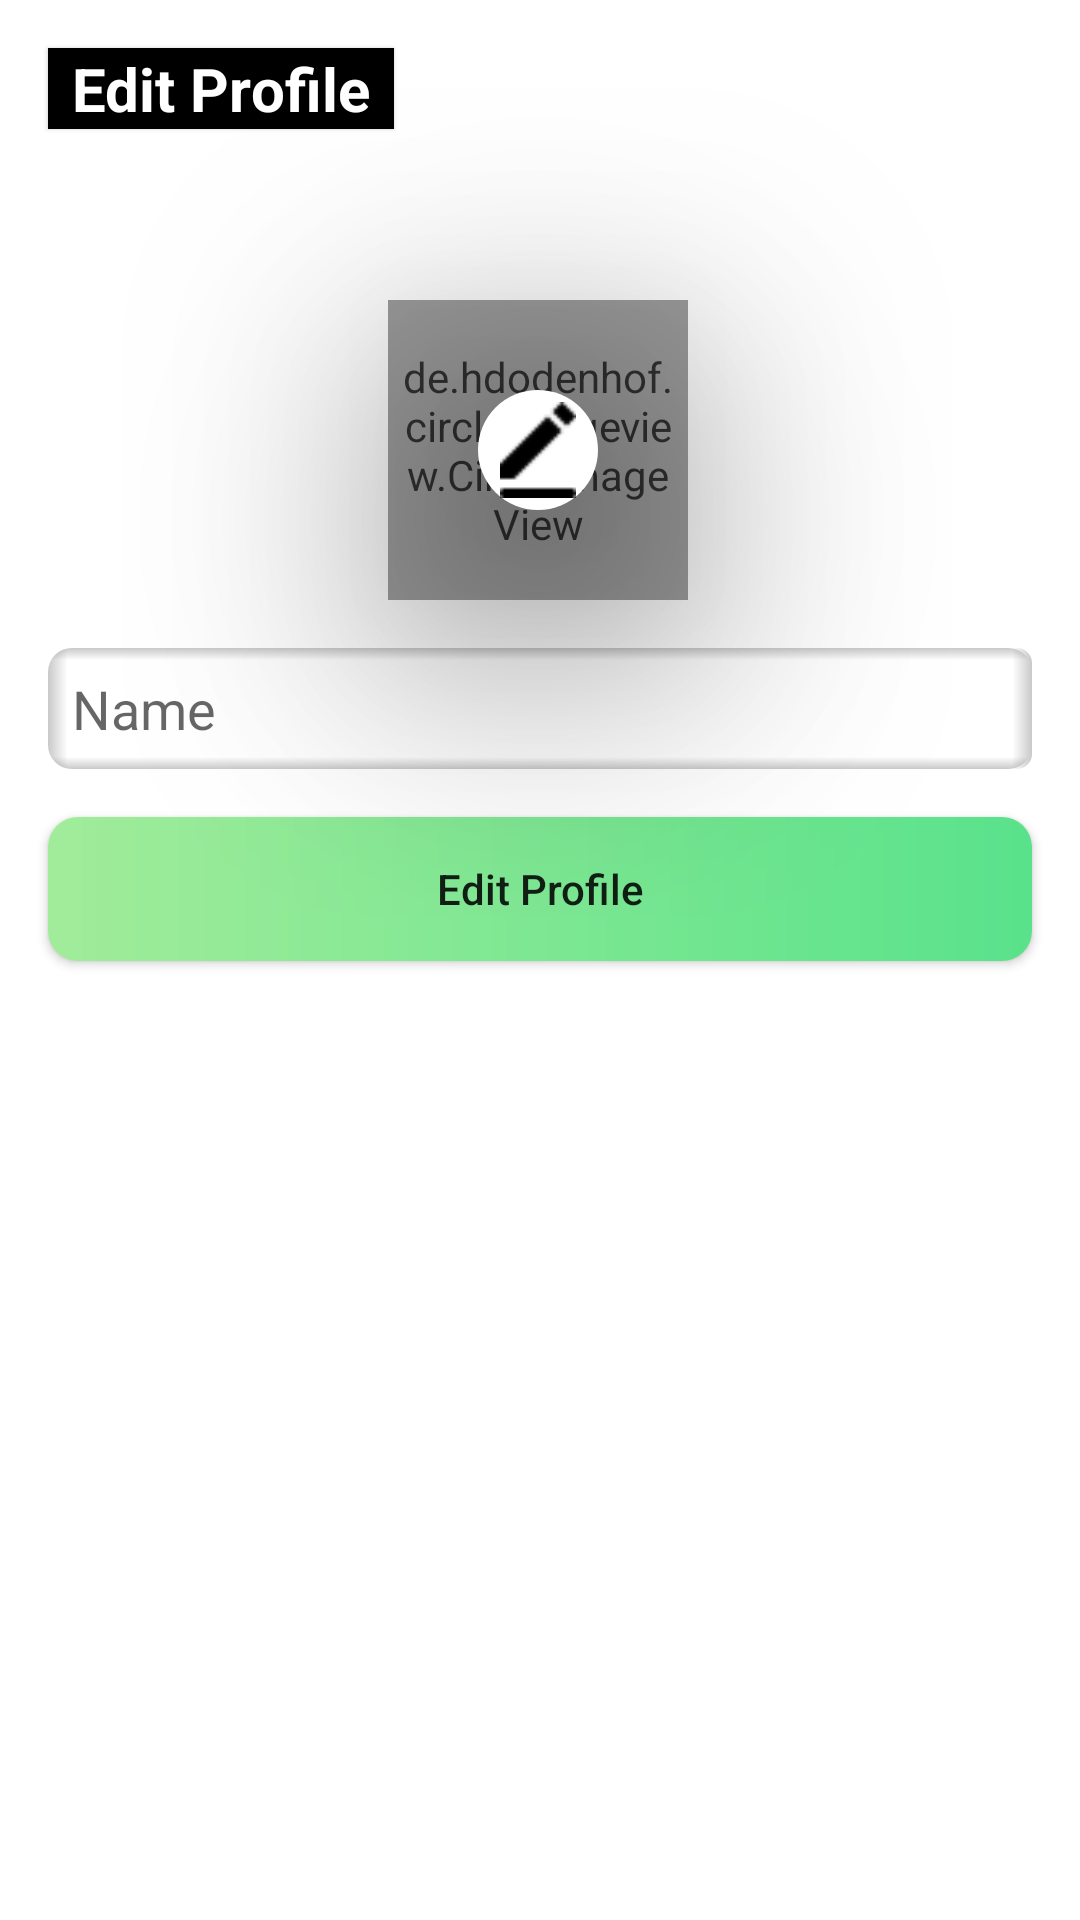

Icons on this 1080*1920 Android screen, each with its box as (x1, y1, x2, y2):
Edit Profile: (478, 390, 598, 510)
